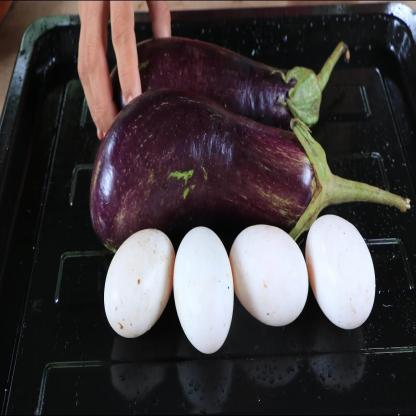--: (81, 87, 414, 246)
